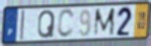2: (114, 4, 135, 38)
9: (79, 8, 94, 38)
C: (56, 8, 76, 40)
I: (19, 10, 26, 42)
M: (93, 6, 116, 38)
Q: (37, 9, 56, 40)
